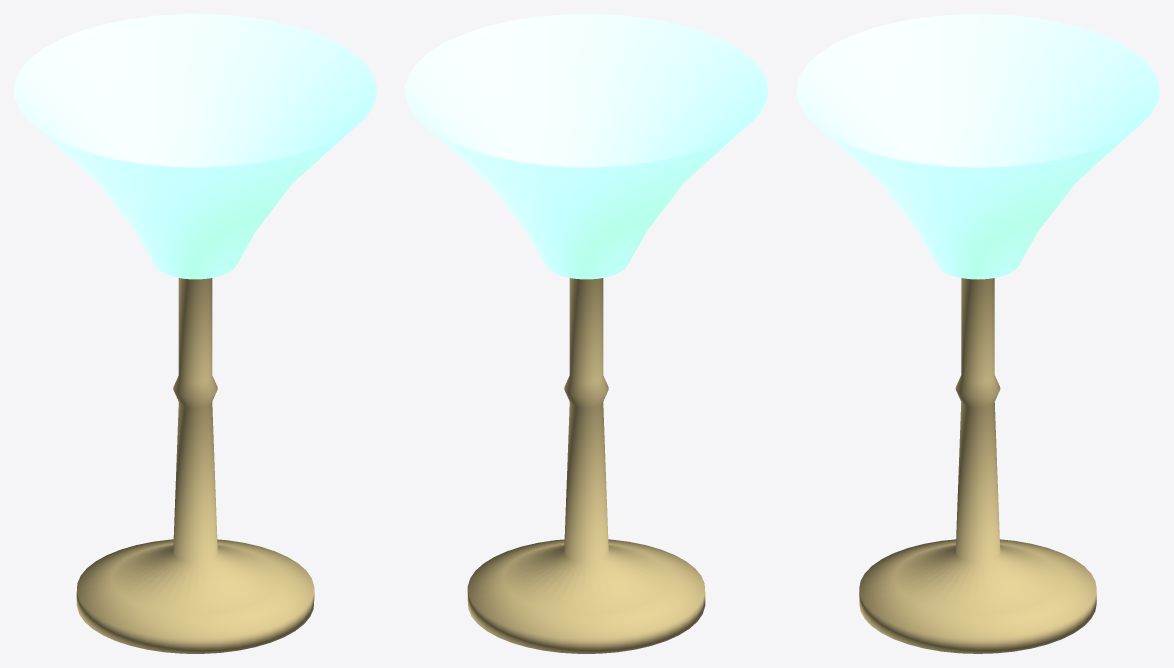
The model's file is desk_lamp.glb.
The picture shows the model from 3 angles, left to right: view 1: azimuth 30°, elevation 25°; view 2: azimuth 150°, elevation 25°; view 3: azimuth 270°, elevation 25°; orthographic projection.
Parts seen in each view (by area): view 1: shade, stand; view 2: shade, stand; view 3: shade, stand.
Part boxes in pixels (bbox=[...]): shade: bbox=[14, 14, 376, 279]; stand: bbox=[76, 278, 314, 653]; shade: bbox=[405, 14, 767, 279]; stand: bbox=[467, 278, 705, 653]; shade: bbox=[796, 14, 1159, 279]; stand: bbox=[859, 278, 1096, 653].
Size of the model in its own units: 0.26 by 0.405 by 0.26.
